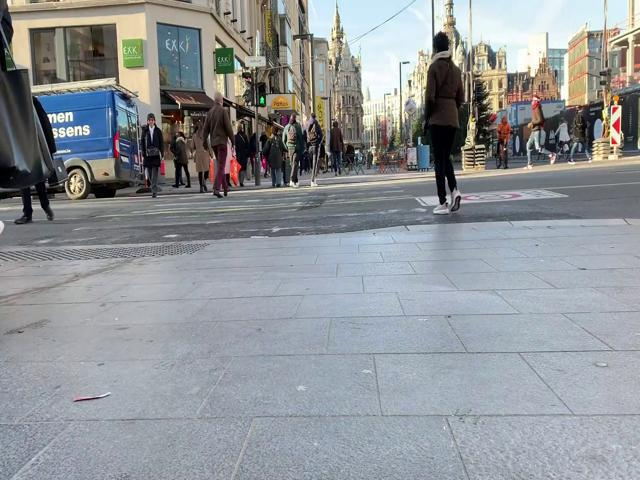shoe: (451, 188, 462, 211), (15, 210, 32, 224), (43, 205, 55, 221), (433, 203, 449, 214)
